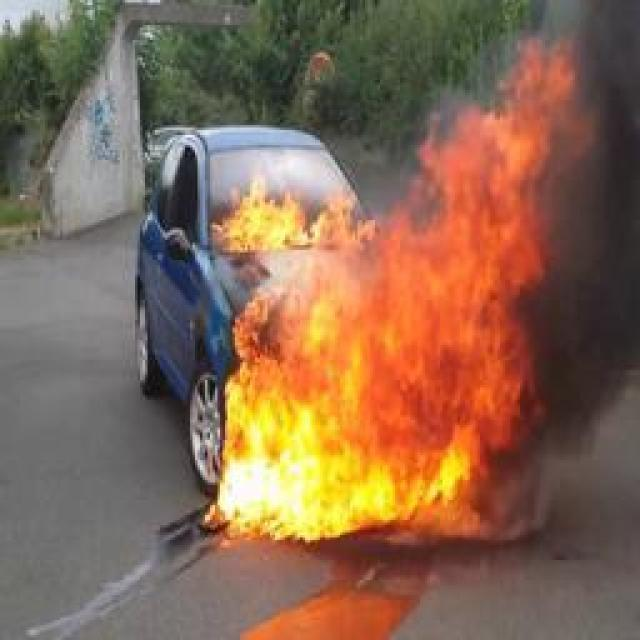Fire: (208, 35, 582, 540), (215, 168, 380, 250)
